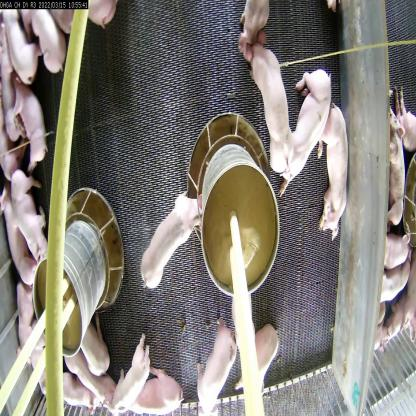Pig: (248, 40, 295, 185), (281, 62, 328, 201), (141, 186, 203, 288), (13, 276, 48, 394), (197, 321, 240, 415), (318, 105, 349, 235), (65, 339, 116, 415), (11, 78, 48, 173), (242, 322, 282, 406), (10, 177, 50, 259), (71, 304, 114, 380), (112, 339, 154, 414), (2, 1, 38, 84), (29, 13, 68, 88), (128, 368, 188, 415), (3, 192, 30, 290), (239, 0, 272, 64)
